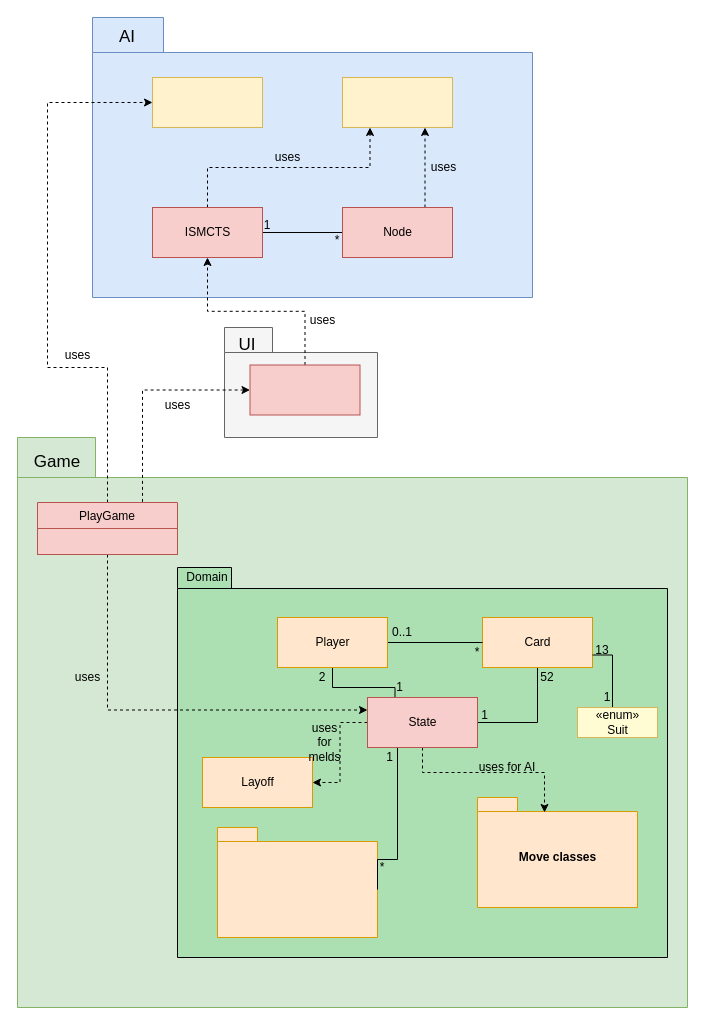
The diagram is 705 pixels wide and 1025 high, and some of its shapes have lost their labels. The centre of each missing label's shape, as x and y in pixels:
+ main(String[] args): the point at 107,541
AIArrayList: the point at 397,102
AIvsAI_UI: the point at 304,389
Meld classes: the point at 297,882
PerformanceTester: the point at 207,102
